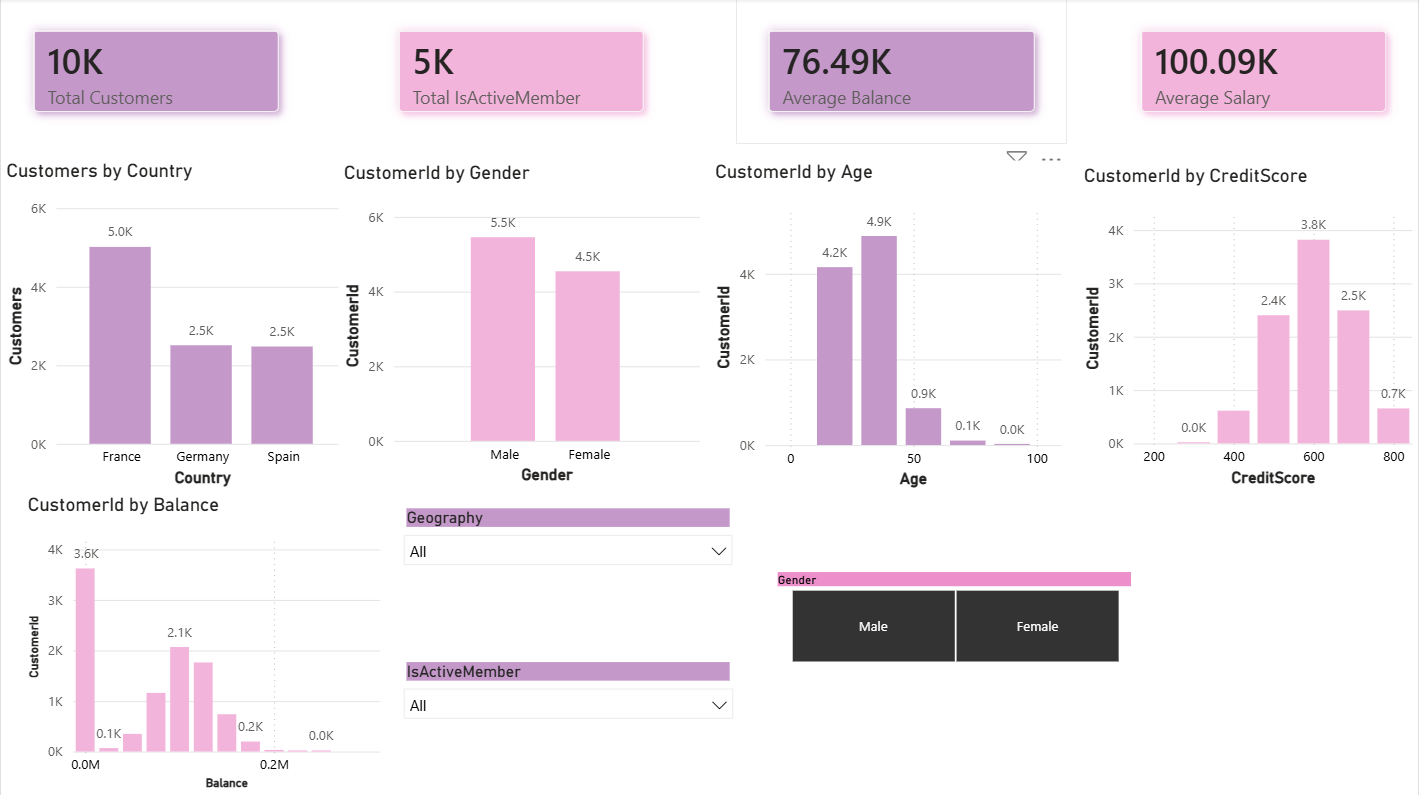

What the dashboard file says about the page in this screenshot:
{"tool":"powerbi","page":{"name":"Page 1","canvas":[1280,720],"ordinal":0},"visuals":[{"type":"cardVisual","fields":{"Data":["CountNonNull(Bank_clean (2).CustomerId)"]},"box":[0,0,280,132.1],"z":0},{"type":"cardVisual","fields":{"Data":["Avg(Bank_clean (2).Balance)"]},"box":[664,0,299.6,132.1],"z":1000},{"type":"cardVisual","fields":{"Data":["Avg(Bank_clean (2).EstimatedSalary)"]},"box":[1000.3,0,280,132.1],"z":2000},{"type":"cardVisual","fields":{"Data":["Sum(Bank_clean (2).IsActiveMember)"]},"box":[330.2,0,280,132.1],"z":3000},{"type":"columnChart","fields":{"Category":["Bank_clean (2).Geography"],"Y":["CountNonNull(Bank_clean (2).CustomerId)"]},"box":[0,145.5,319.2,300.8],"z":4000},{"type":"columnChart","fields":{"Category":["Bank_clean (2).Gender"],"Y":["CountNonNull(Bank_clean (2).CustomerId)"]},"box":[304.5,148,331.4,295.9],"z":5000},{"type":"columnChart","fields":{"Category":["Bank_clean (2).Age (bins)"],"Y":["CountNonNull(Bank_clean (2).CustomerId)"]},"box":[640.8,146.7,322.8,300.8],"z":6000},{"type":"columnChart","fields":{"Category":["Bank_clean (2).CreditScore (bins)"],"Y":["CountNonNull(Bank_clean (2).CustomerId)"]},"box":[973.4,150.4,306.9,295.9],"z":7000},{"type":"columnChart","fields":{"Category":["Bank_clean (2).Balance (bins)"],"Y":["CountNonNull(Bank_clean (2).CustomerId)"]},"box":[19.6,447.6,332.2,273.3],"z":8000},{"type":"slicer","fields":{"Values":["Bank_clean (2).Geography"]},"box":[353.2,456.2,317.5,113.5],"z":9000},{"type":"slicer","fields":{"Values":["Bank_clean (2).Gender"]},"box":[688.5,513.6,344.8,92.9],"z":10000},{"type":"slicer","fields":{"Values":["Bank_clean (2).IsActiveMember"]},"box":[353.2,595,317.9,92.9],"z":11000}]}

Visuals, with their boxes in screenshot pixels (x1, y1, x2, y2), scaled from the page's 1280x720 canvas onto the 1419x795 screenshot:
cardVisual - CountNonNull(Bank_clean (2).CustomerId): x1=0 y1=0 x2=310 y2=146
cardVisual - Avg(Bank_clean (2).Balance): x1=736 y1=0 x2=1068 y2=146
cardVisual - Avg(Bank_clean (2).EstimatedSalary): x1=1109 y1=0 x2=1418 y2=146
cardVisual - Sum(Bank_clean (2).IsActiveMember): x1=366 y1=0 x2=676 y2=146
columnChart - Bank_clean (2).Geography x CountNonNull(Bank_clean (2).CustomerId): x1=0 y1=161 x2=354 y2=493
columnChart - Bank_clean (2).Gender x CountNonNull(Bank_clean (2).CustomerId): x1=338 y1=163 x2=705 y2=490
columnChart - Bank_clean (2).Age (bins) x CountNonNull(Bank_clean (2).CustomerId): x1=710 y1=162 x2=1068 y2=494
columnChart - Bank_clean (2).CreditScore (bins) x CountNonNull(Bank_clean (2).CustomerId): x1=1079 y1=166 x2=1418 y2=493
columnChart - Bank_clean (2).Balance (bins) x CountNonNull(Bank_clean (2).CustomerId): x1=22 y1=494 x2=390 y2=794
slicer - Bank_clean (2).Geography: x1=392 y1=504 x2=744 y2=629
slicer - Bank_clean (2).Gender: x1=763 y1=567 x2=1146 y2=670
slicer - Bank_clean (2).IsActiveMember: x1=392 y1=657 x2=744 y2=760
